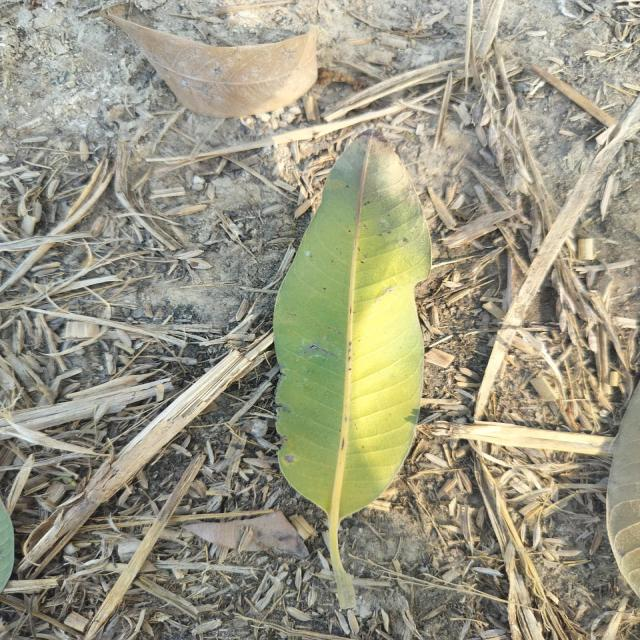Anthracnose: (358, 196, 414, 250)
